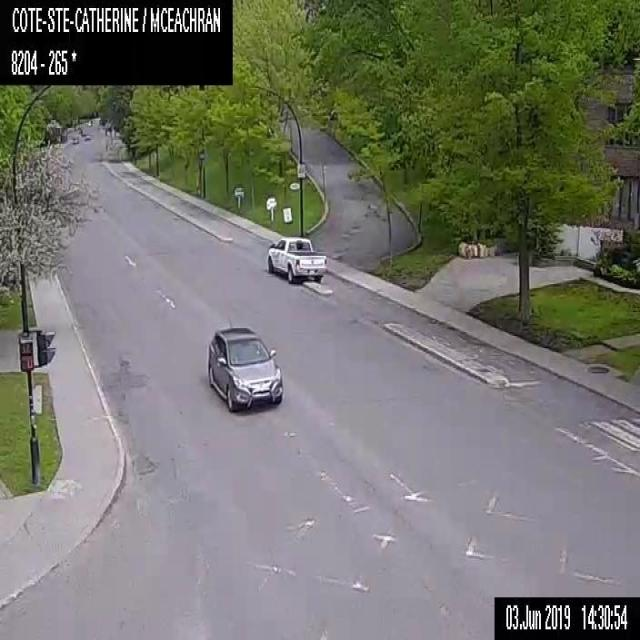vehicle: (206, 324, 283, 413), (267, 235, 326, 284), (72, 135, 78, 143), (84, 134, 90, 140), (81, 130, 86, 136)
